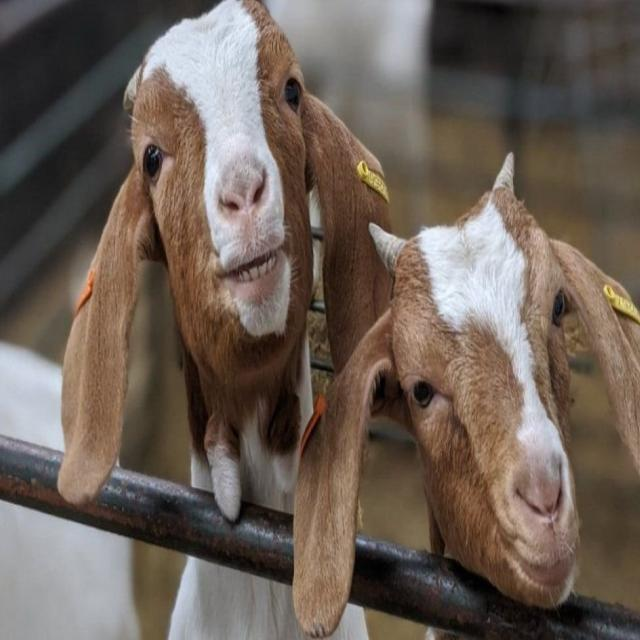Goat: (302, 145, 640, 640), (44, 0, 352, 527)
